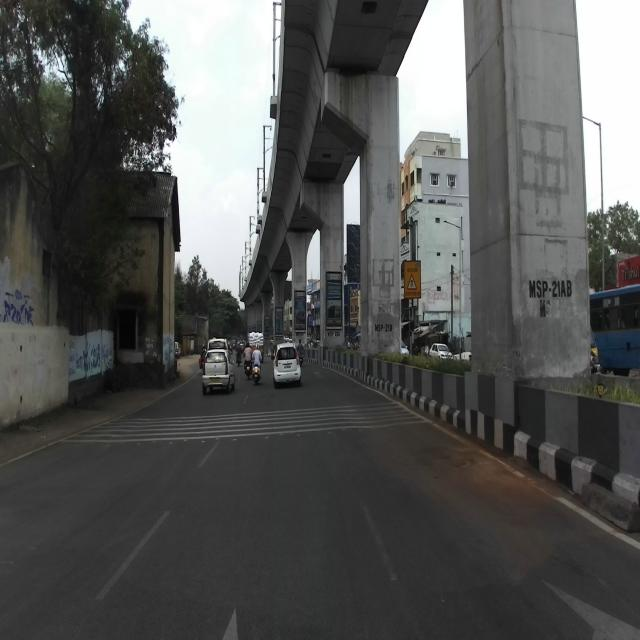Car_Maruti-Suzuki: (272, 342, 301, 388)
Car_TATA: (201, 348, 235, 395)
